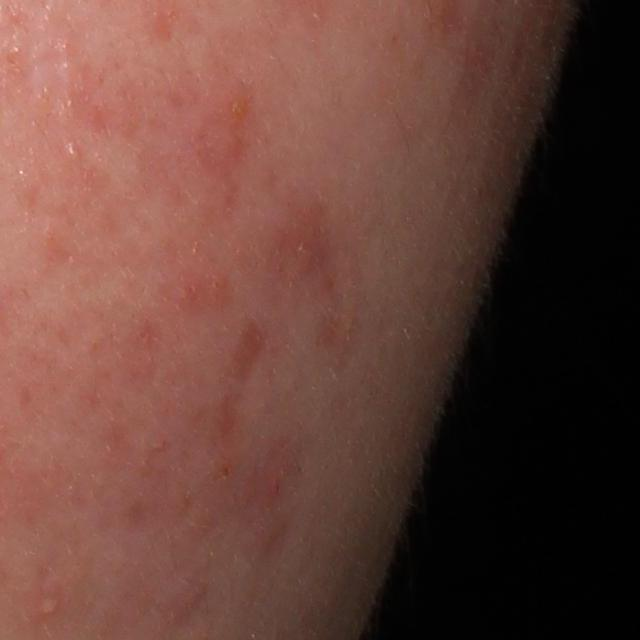comedo: (62, 141, 85, 166)
pustule: (35, 588, 64, 624)
